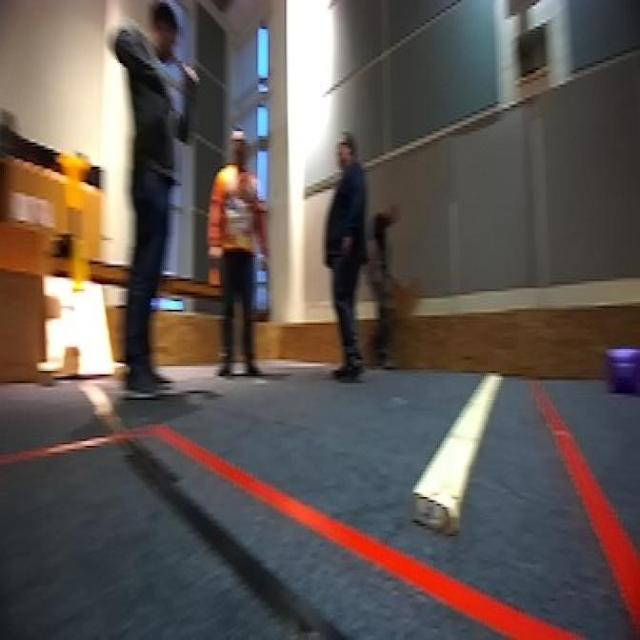frc_cone: (61, 152, 89, 214), (68, 237, 90, 296)
frc_cube: (609, 345, 640, 396)
